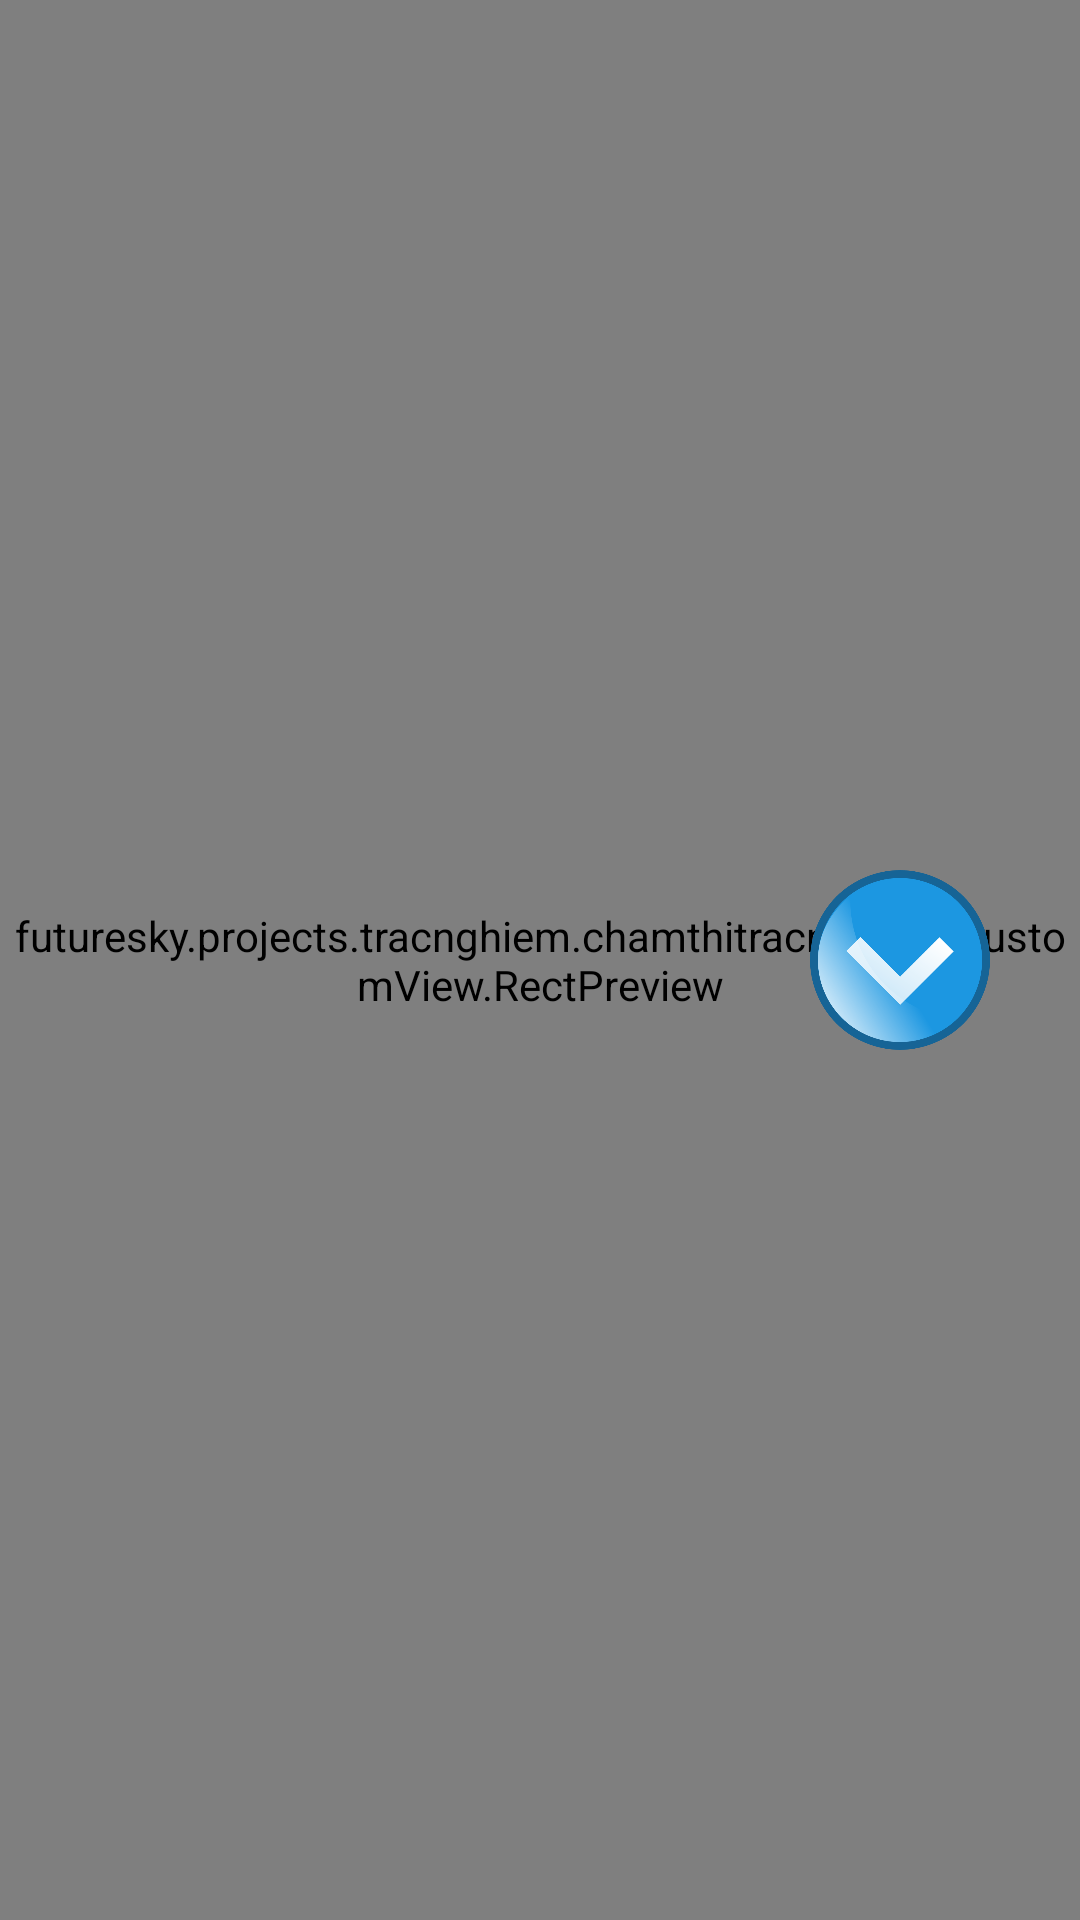

Screen size 1080px×1920px. Icon name, then its box in pixels as region(x1, y1, x2, y2):
back down: region(810, 870, 990, 1050)
